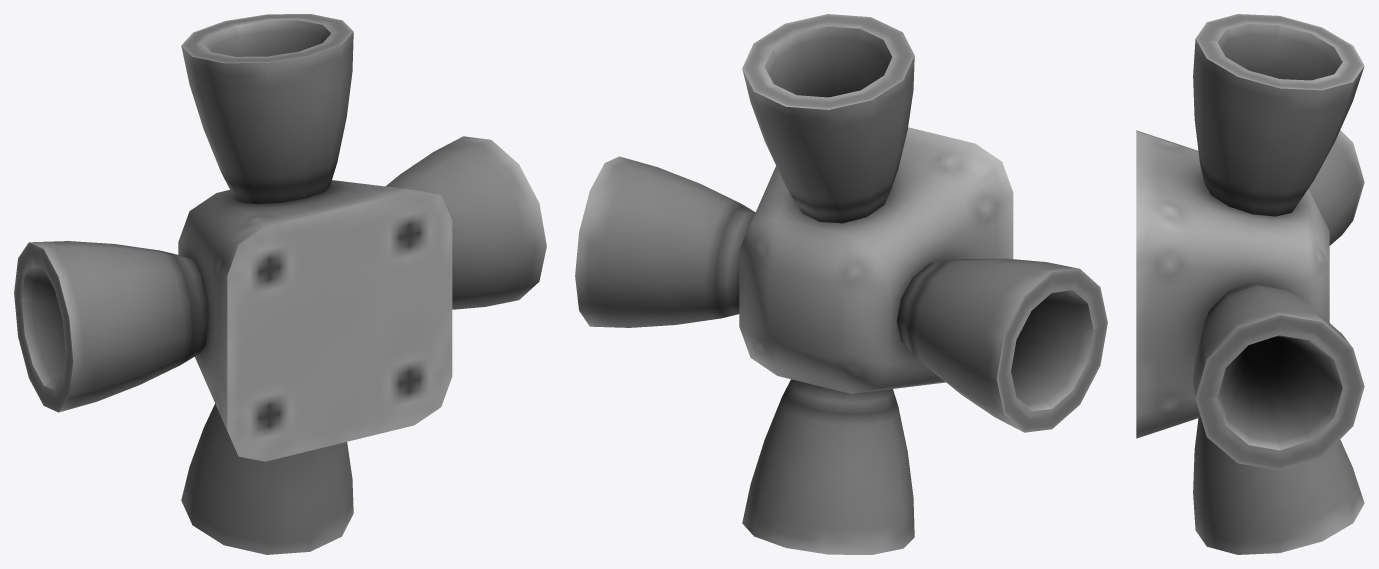
Rendered from rcs4.fbx.
3 views of the same model, side by side, from view 1: azimuth 30°, elevation 25°; view 2: azimuth 150°, elevation 25°; view 3: azimuth 270°, elevation 25° (orthographic).
Visible parts, largest first — view 1: mesh; view 2: mesh; view 3: mesh.
Part boxes in pixels (x1,y1,x2,y2): mesh: (14, 14, 546, 554); mesh: (575, 14, 1107, 554); mesh: (1136, 14, 1364, 554).
Bounding box in the file's own units: 0.1579 × 0.1579 × 0.0665.
1 material, 1 textured.
